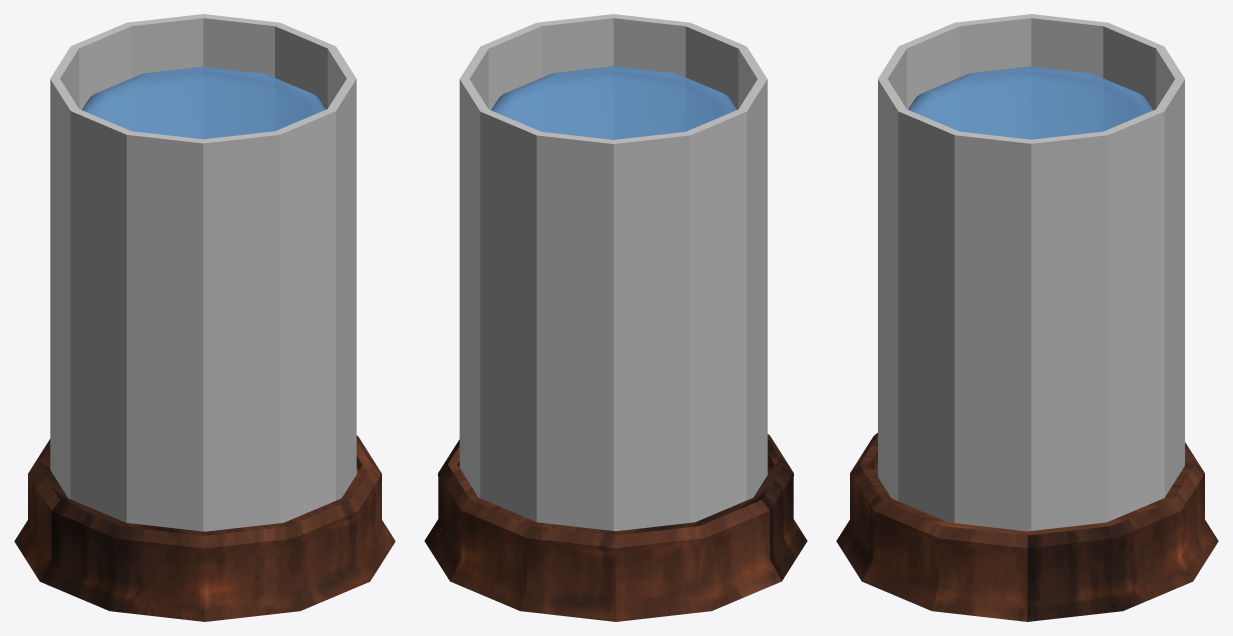
File: Aquarium.fbx
3 renders of one model, left to right at view 1: azimuth 30°, elevation 25°; view 2: azimuth 150°, elevation 25°; view 3: azimuth 270°, elevation 25°, orthographic.
Visible parts, largest first — view 1: polySurface74, polySurface71, polySurface75; view 2: polySurface74, polySurface71, polySurface75; view 3: polySurface74, polySurface71, polySurface75.
Boxes of the visible parts, x1,y1,x2,y2 form: polySurface74: (50,14,356,531); polySurface71: (14,435,395,621); polySurface75: (82,66,325,139); polySurface74: (459,14,767,531); polySurface71: (424,434,807,621); polySurface75: (491,66,736,139); polySurface74: (878,14,1184,531); polySurface71: (836,433,1218,621); polySurface75: (908,66,1152,139).
Bounding box in the file's own units: 182 × 242 × 182.
